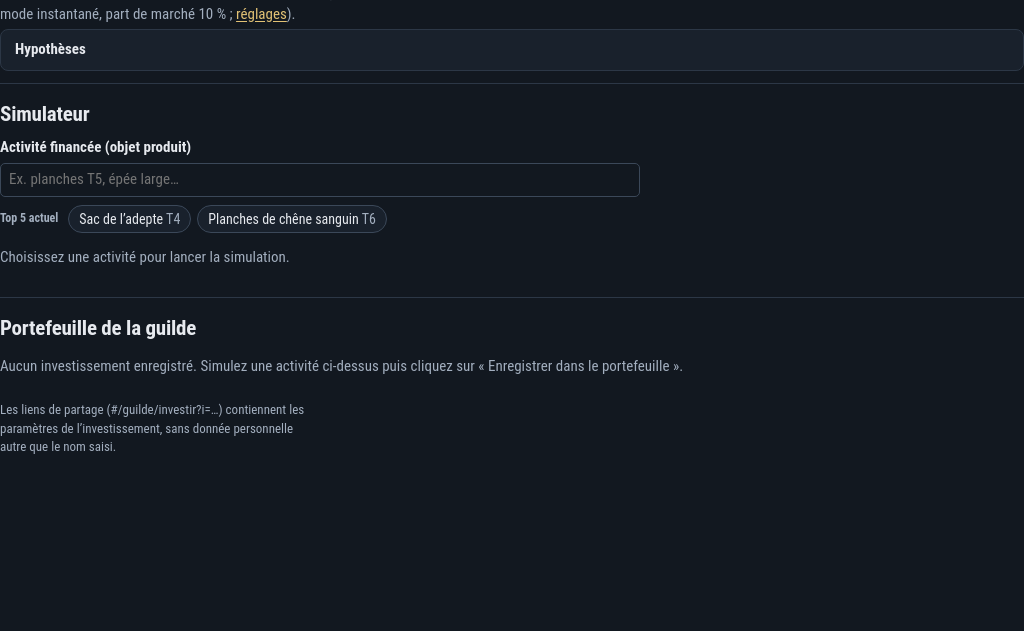
Test: page Investir — simulateur › estimation de la montée T6 : reportée dans le champ, puis capital insuffisant
Click the button "Planches de chêne sanguin T6" at (292, 219), box 197,205 -> 387,233
(page scrolled)
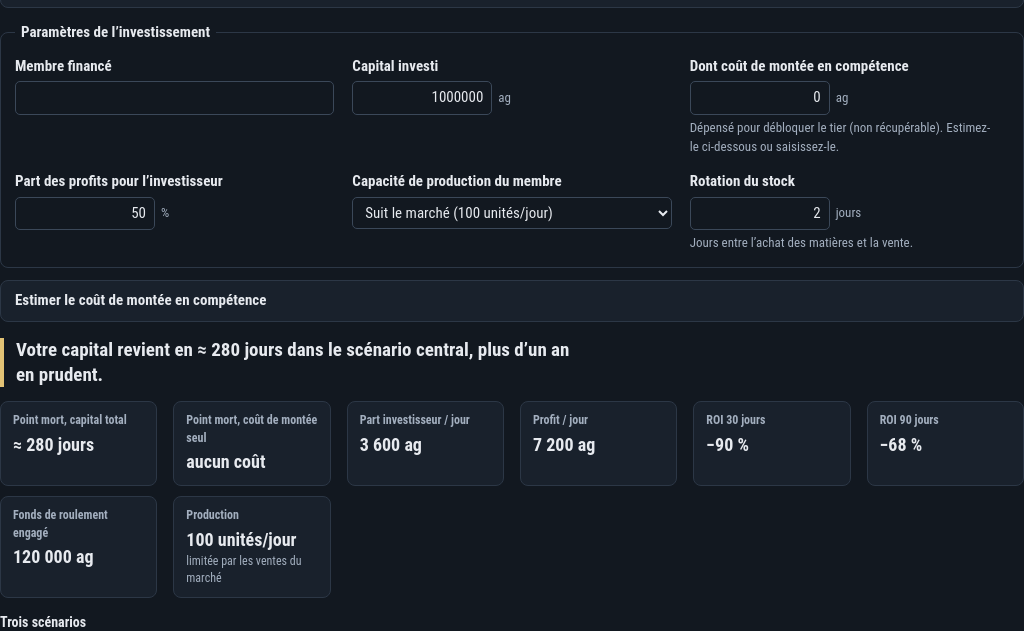
Click the heading "Estimer le coût de montée en compétence" at (141, 300), box 15,291 -> 266,309
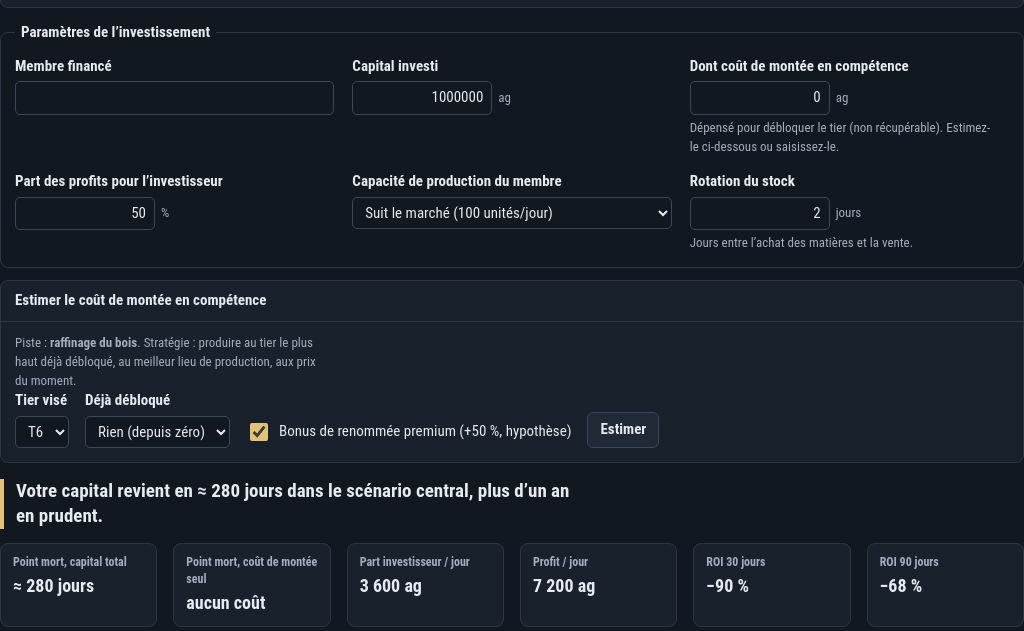
Click the checkbox labelled "Bonus de renommée premium (+50 %, hypothèse)" at (259, 432), box 250,423 -> 268,441
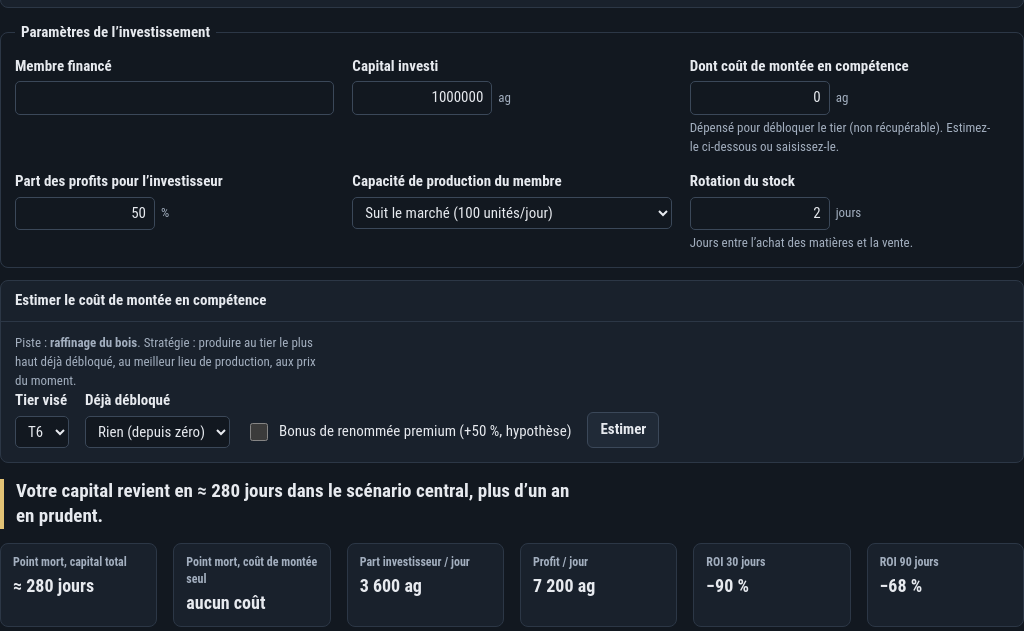
Click the button "Estimer" at (623, 430), box 588,412 -> 659,448
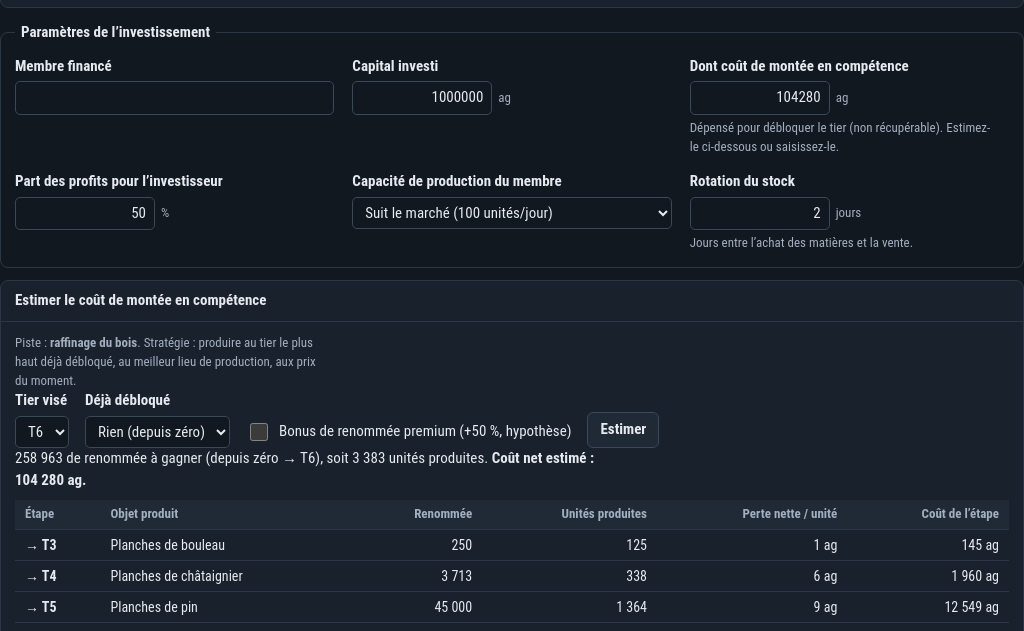
Check: the field labelled "Dont coût de montée en compétence" holds "104280", box 690,81 -> 830,115
Check: the text "de renommée à gagner" shows "258 963", box 15,449 -> 63,467
Replace the text in the field labelled "Capital investi" with "100000" at (422, 98), box 352,81 -> 492,115
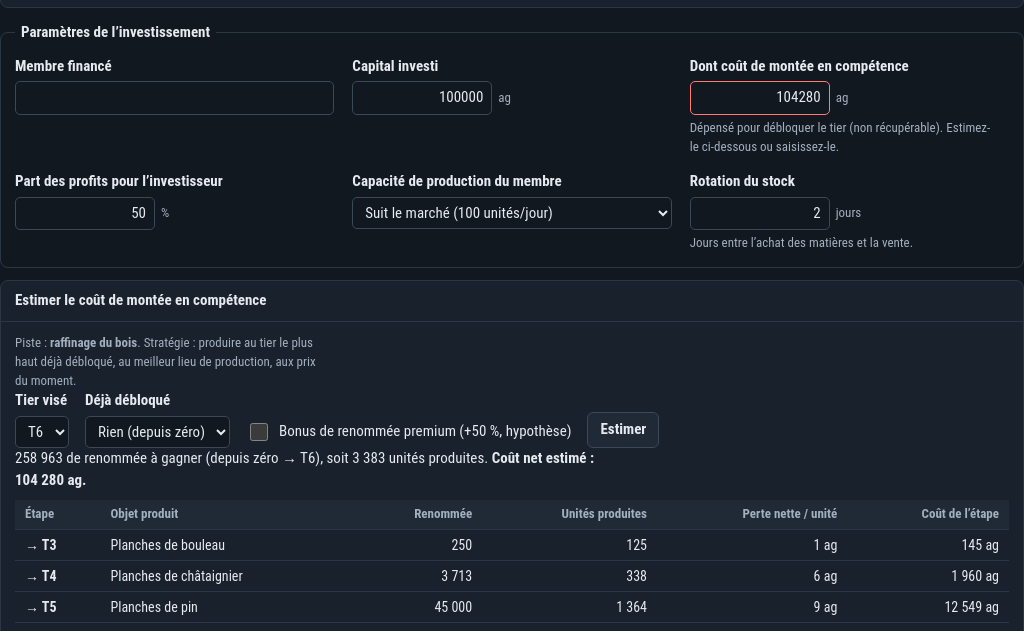
Replace the text in the field labelled "Capital investi" with "1000000" at (422, 98), box 352,81 -> 492,115
(page scrolled)
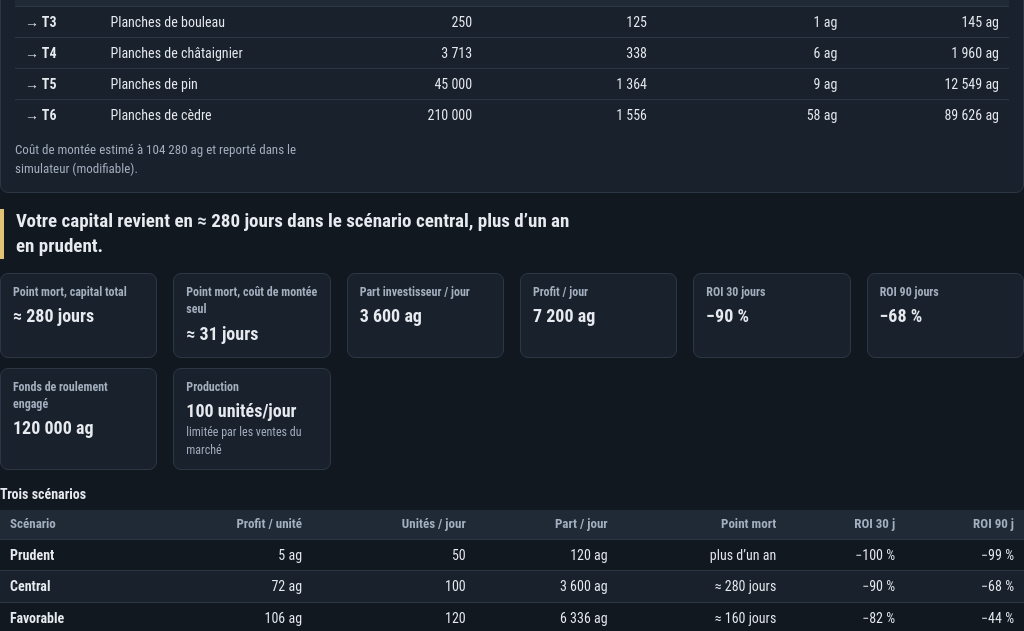
Check: the text "Point mort, coût de montée seul" is shown, box 186,284 -> 318,319
